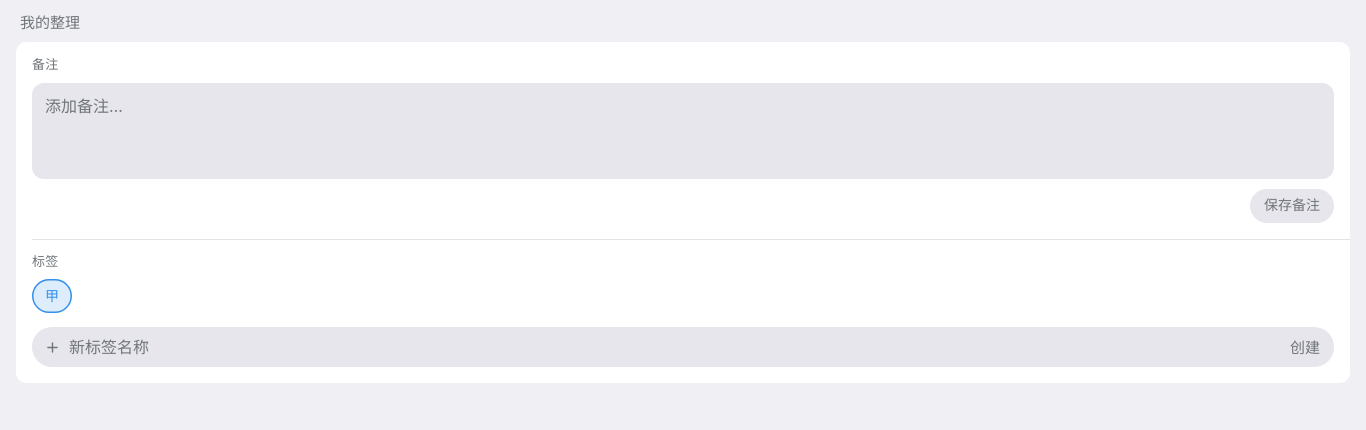
restores a tag reselected while its removal was still in flight
Click the checkbox labelled "甲" at (52,296), box [32,279,72,313]
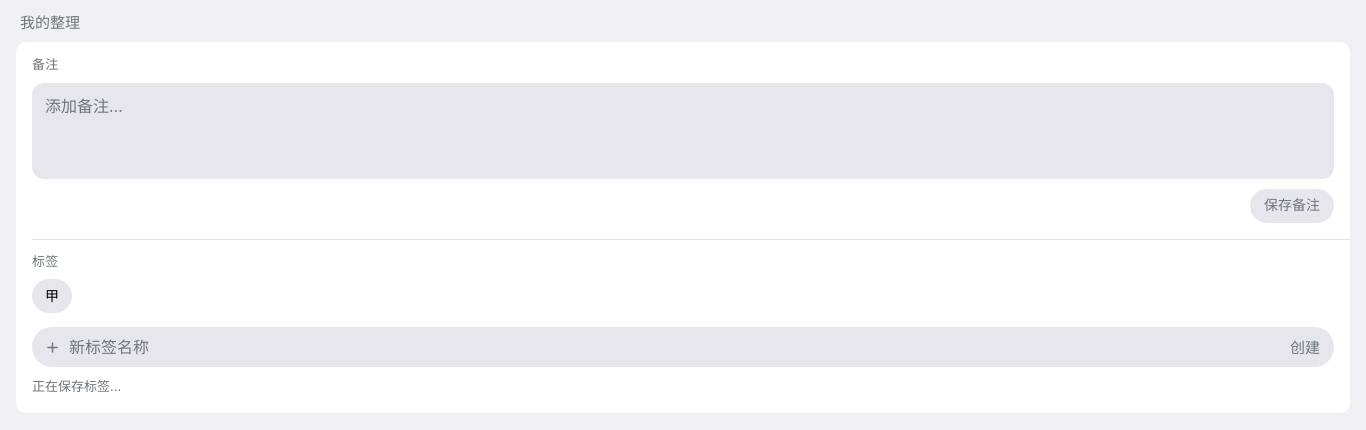
Click the checkbox labelled "甲" at (52,296), box [32,279,72,313]
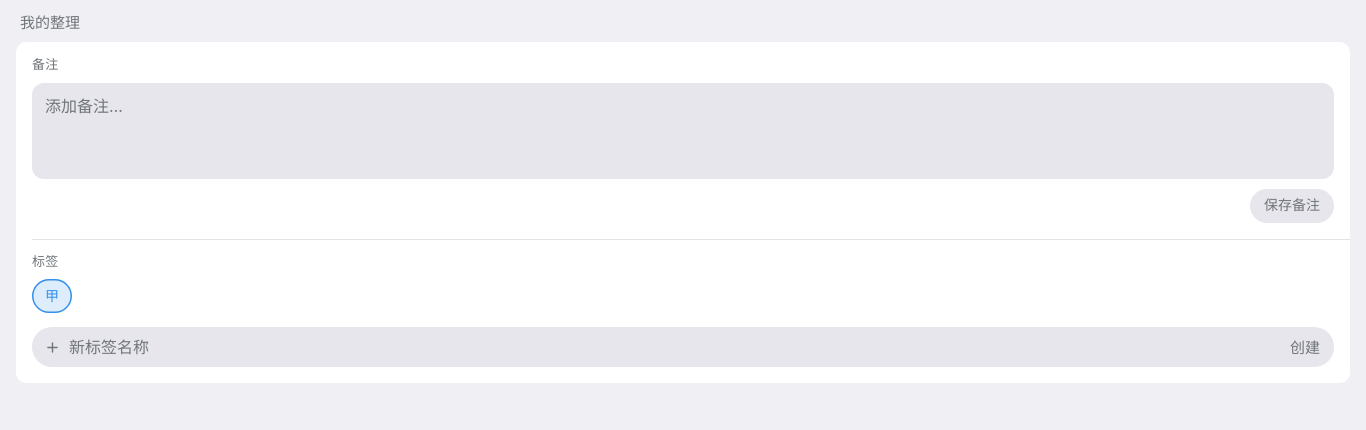
expect the text "正在保存标签…" is gone: met
